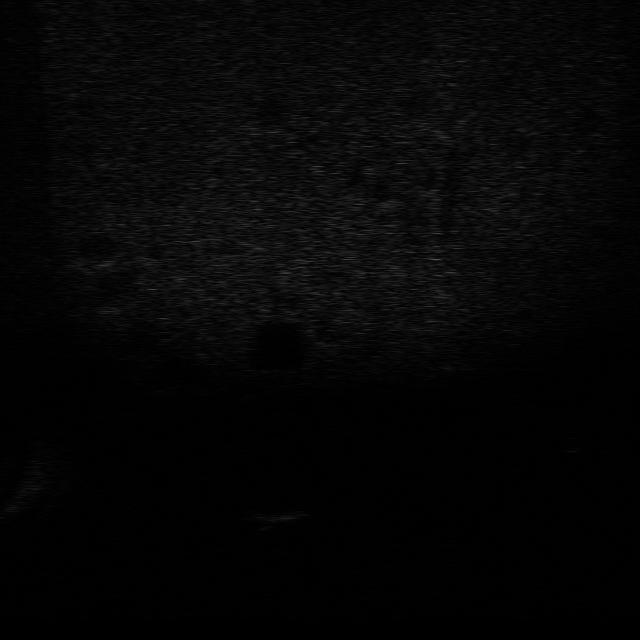ball: (556, 429, 614, 459)
square cage: (244, 503, 308, 533)
